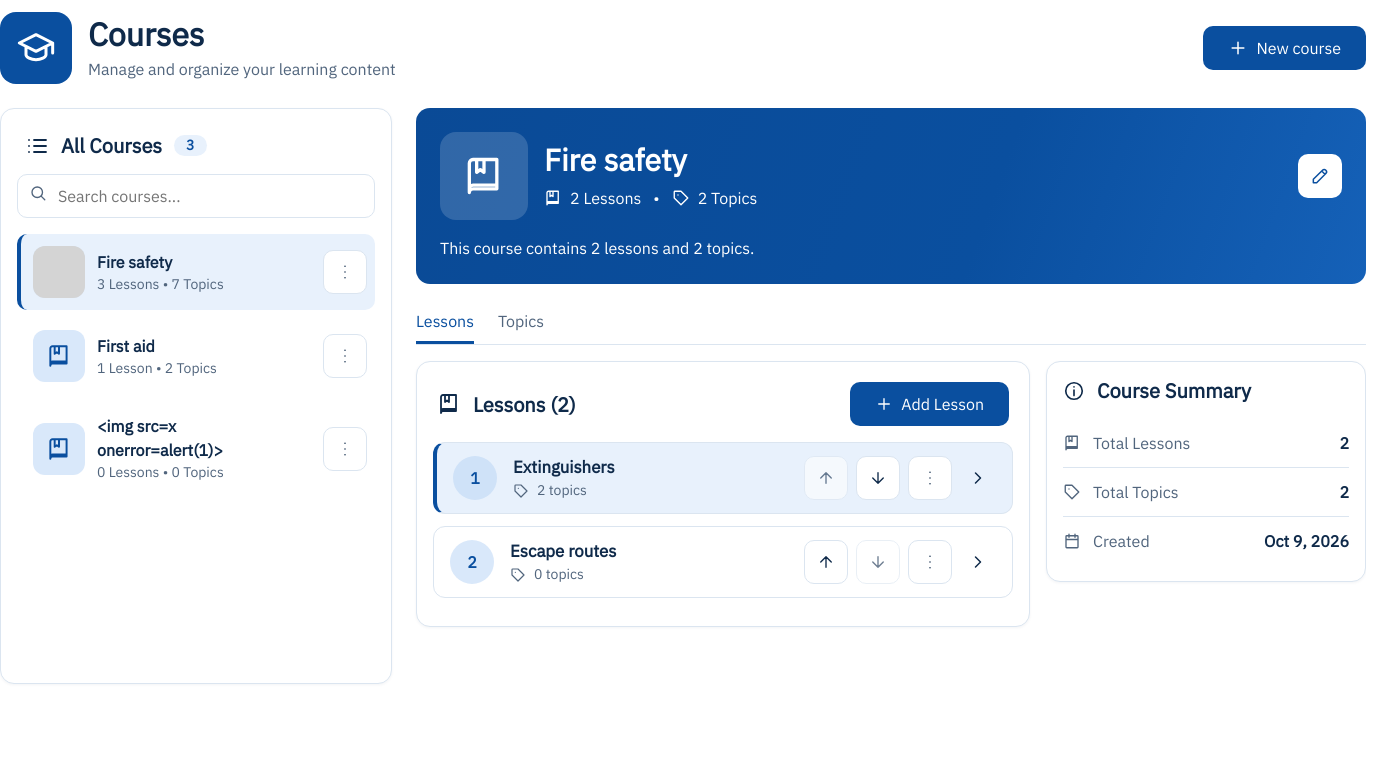
Test: CoursesPage › lists the topics of the course on the Topics tab
Click the tab "Topics" at (521, 322), box [498,300,544,344]
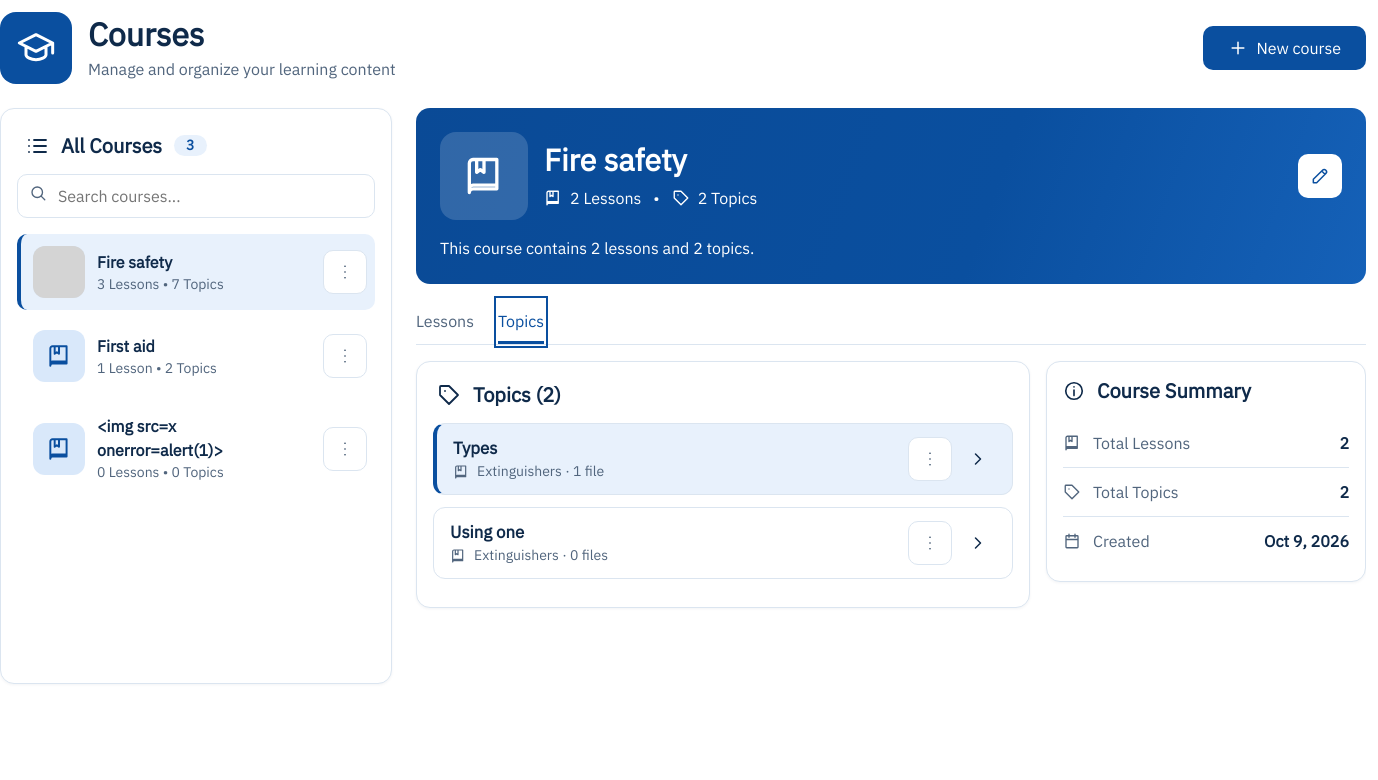
Expected: the text "Using one" is shown, [450,521,524,543]
